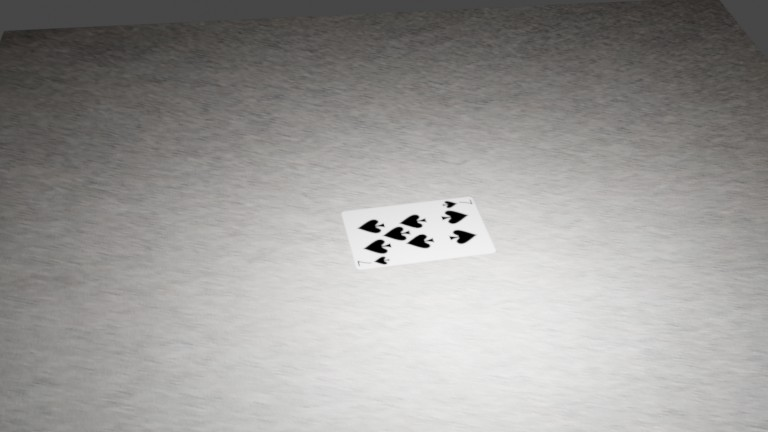7_of_spades: (142, 102, 157, 108), (176, 79, 190, 84)
